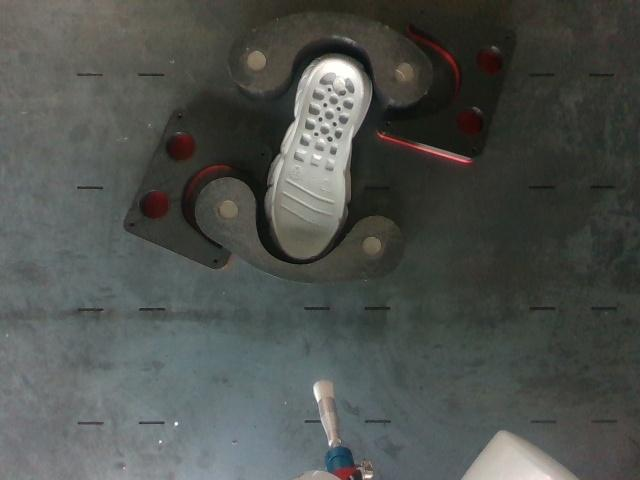shoes: (273, 60, 361, 259)
